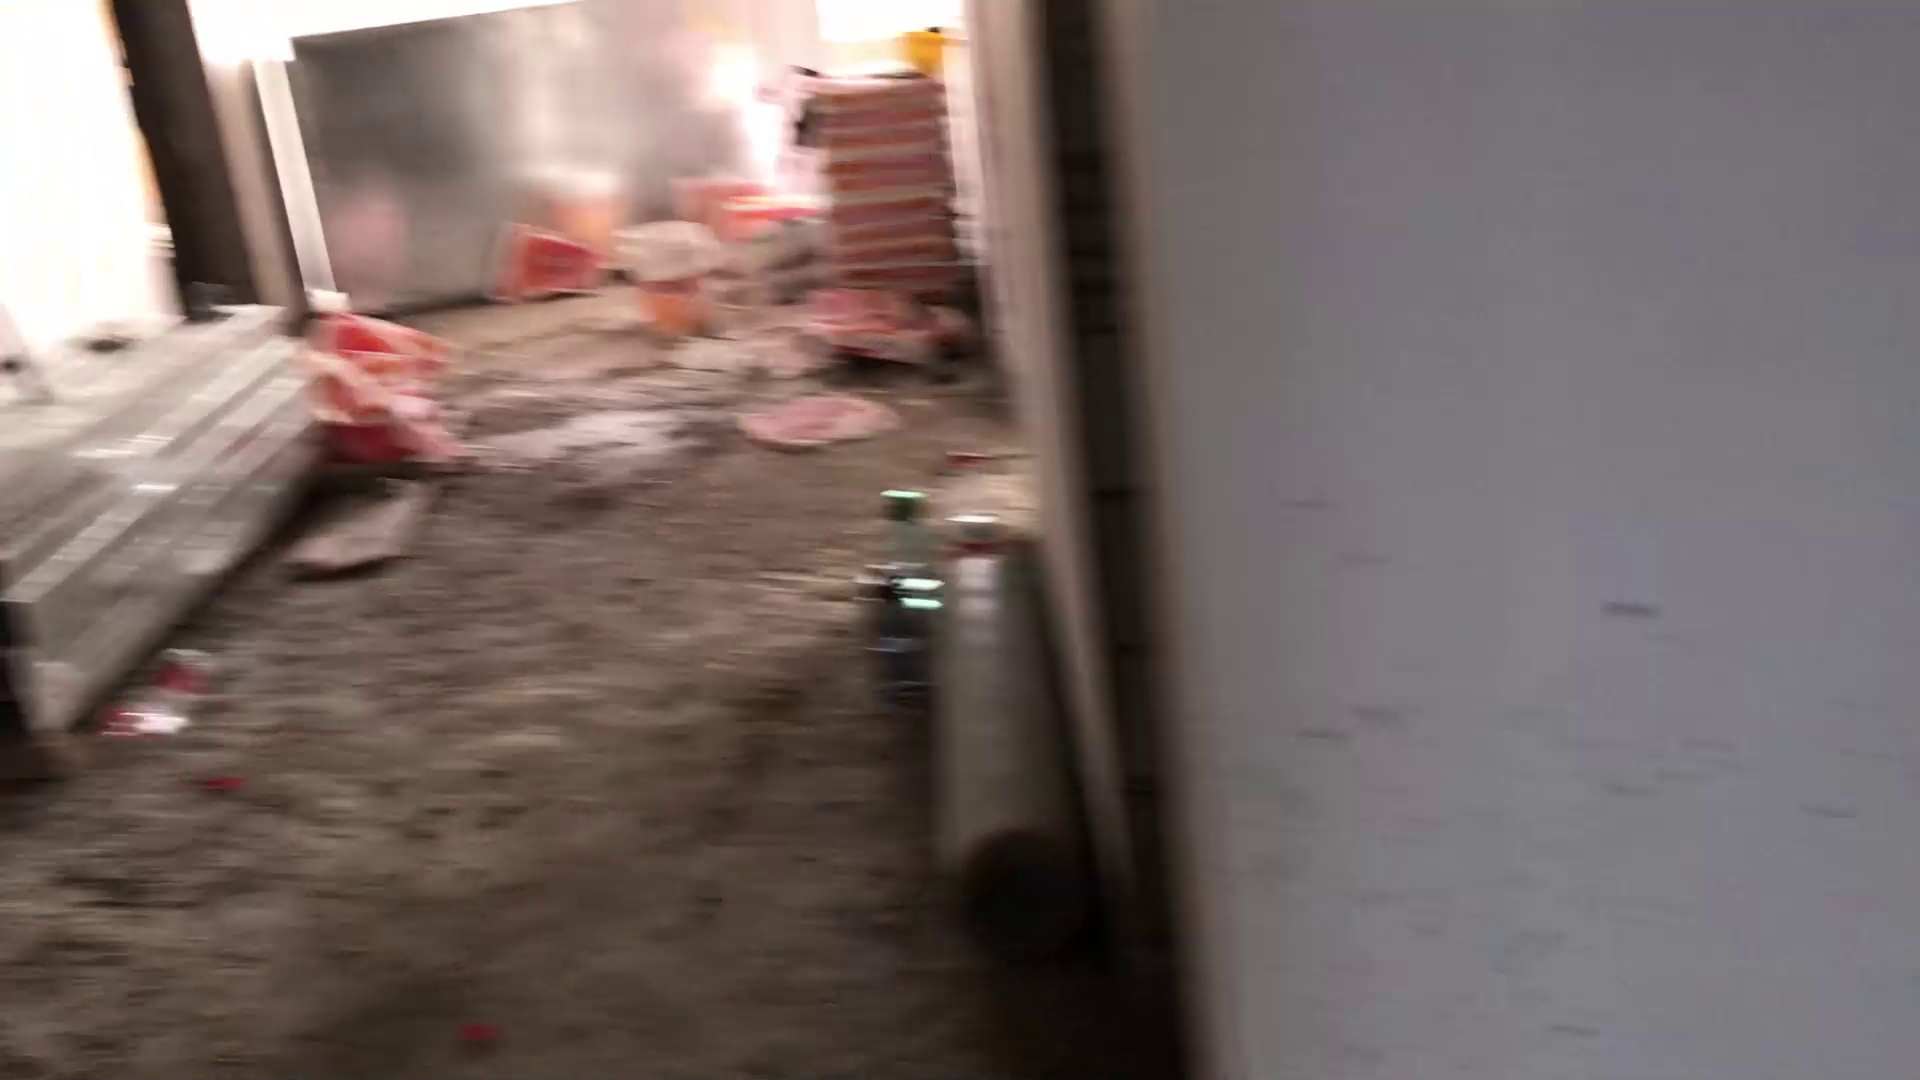helmet: (895, 28, 968, 73)
